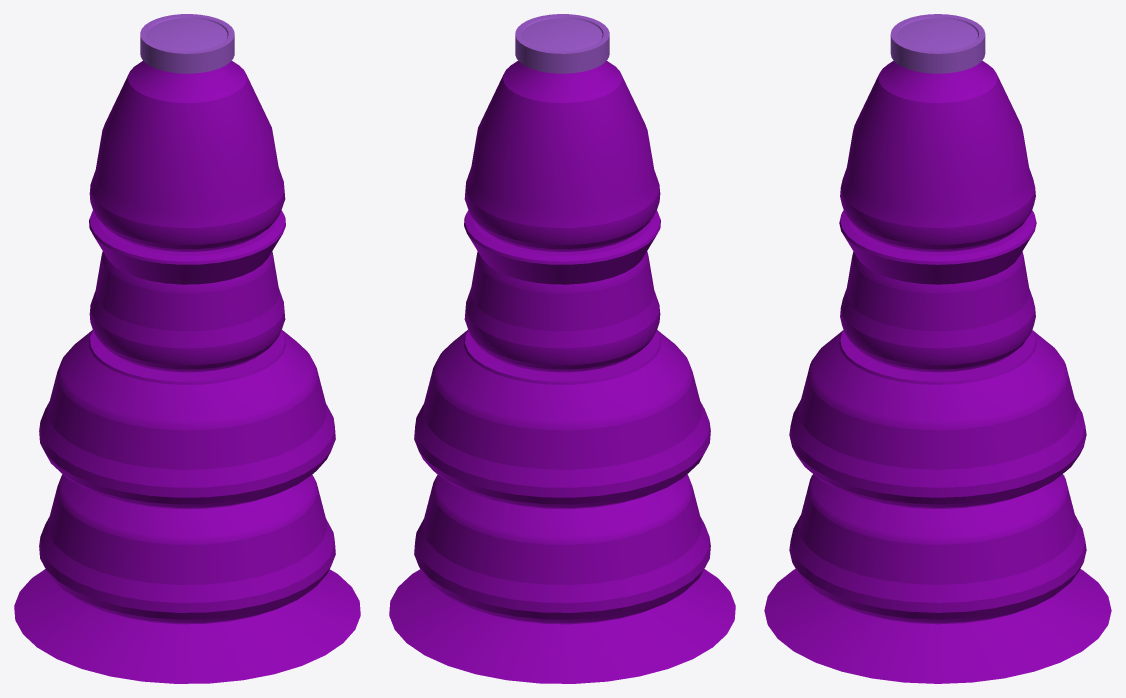
The model's file is bottle14.glb.
3 renders of one model, left to right at view 1: azimuth 30°, elevation 25°; view 2: azimuth 150°, elevation 25°; view 3: azimuth 270°, elevation 25°, orthographic.
Visible parts, largest first — view 1: Bottle14; view 2: Bottle14; view 3: Bottle14.
Boxes of the visible parts, bbox=[...] form: Bottle14: bbox=[14, 14, 360, 683]; Bottle14: bbox=[389, 14, 735, 683]; Bottle14: bbox=[764, 14, 1111, 683].
Size of the model in its own units: 0.9086 by 1.67 by 0.9086.
